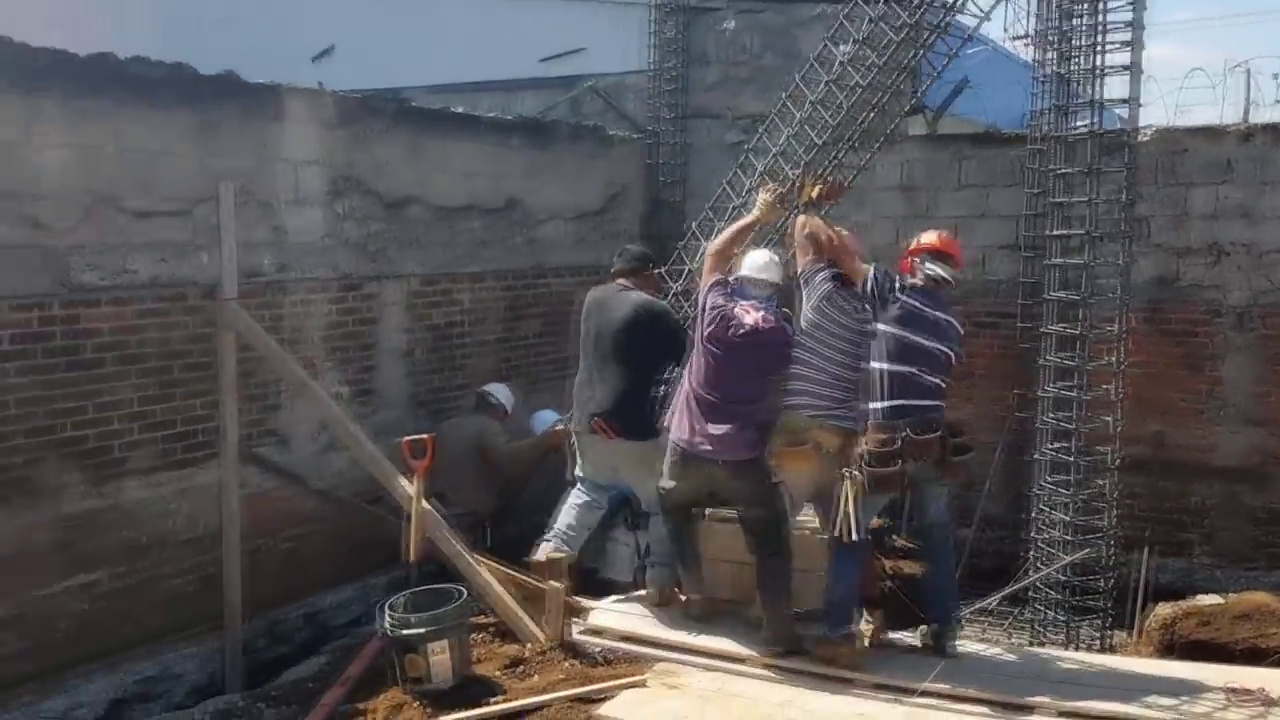helmet: (907, 227, 965, 269), (735, 249, 784, 285), (479, 383, 515, 415), (527, 409, 562, 436)
helmet-off: (610, 244, 661, 294)
helmet-on: (898, 226, 965, 288), (733, 247, 786, 303), (472, 382, 515, 423)
person: (806, 219, 967, 664), (527, 247, 687, 619), (667, 183, 796, 643), (772, 217, 876, 513), (431, 382, 570, 518)
